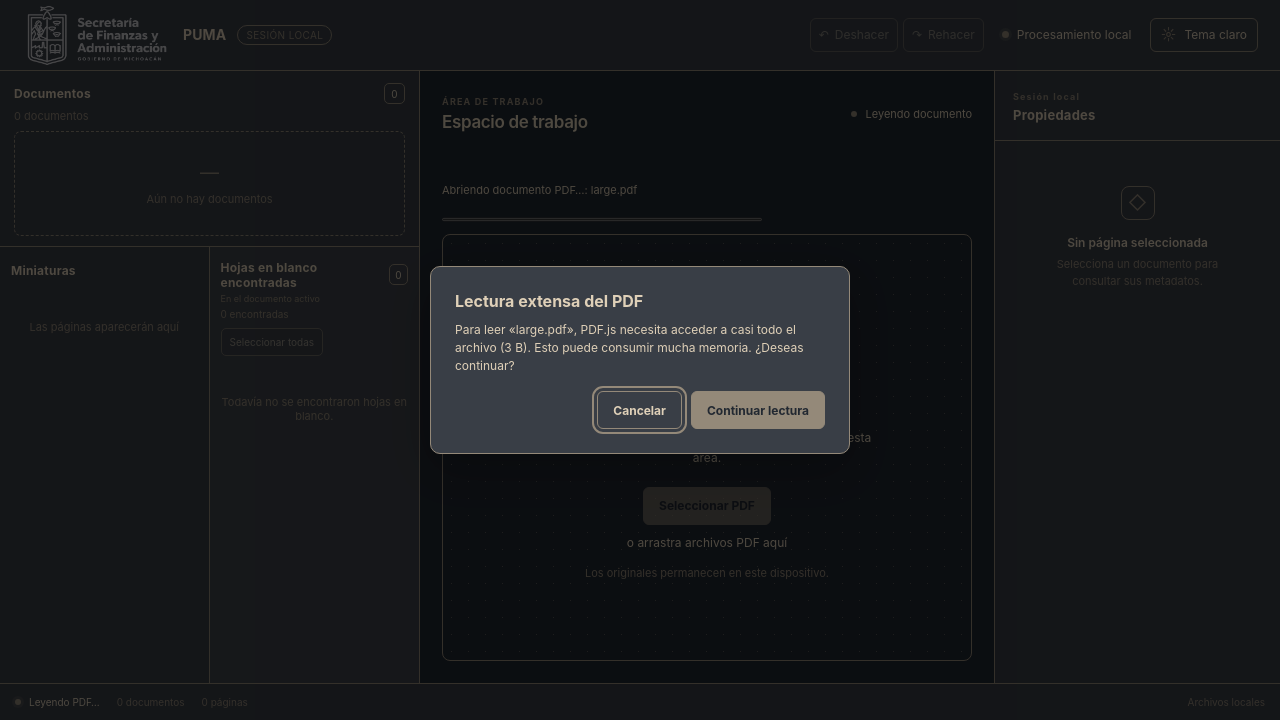
Test: Document Studio initial workspace › asks before continuing a potentially memory-intensive full read
The width and height of the screenshot is (1280, 720).
Earlier steps of the test are not shown.
Expected: the dialog "Lectura extensa del PDF" shows "3 B", [455,322,804,373]
Click the button "Cancelar" at (640, 410), box [597,391,682,429]
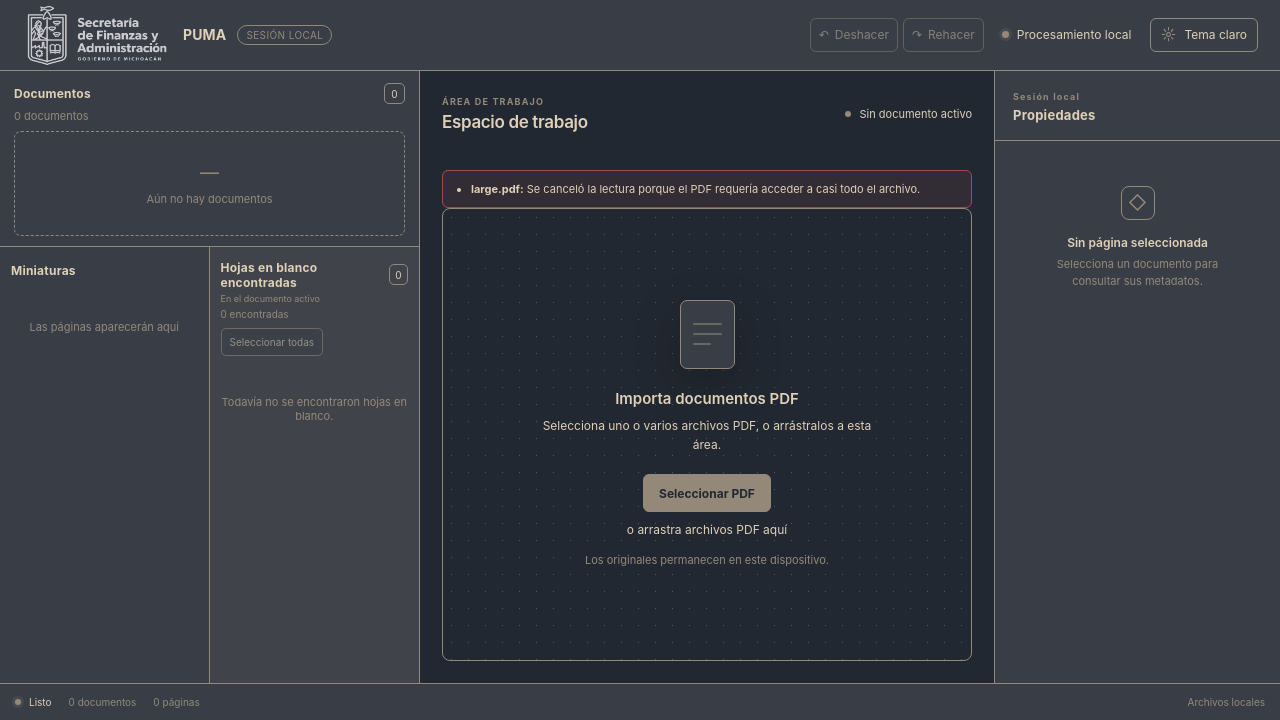
Expected: the message that starts with "large.pdf" shows "Se canceló la lectura porque el PDF requería acceder a casi todo el archivo.", [527,182,920,196]
